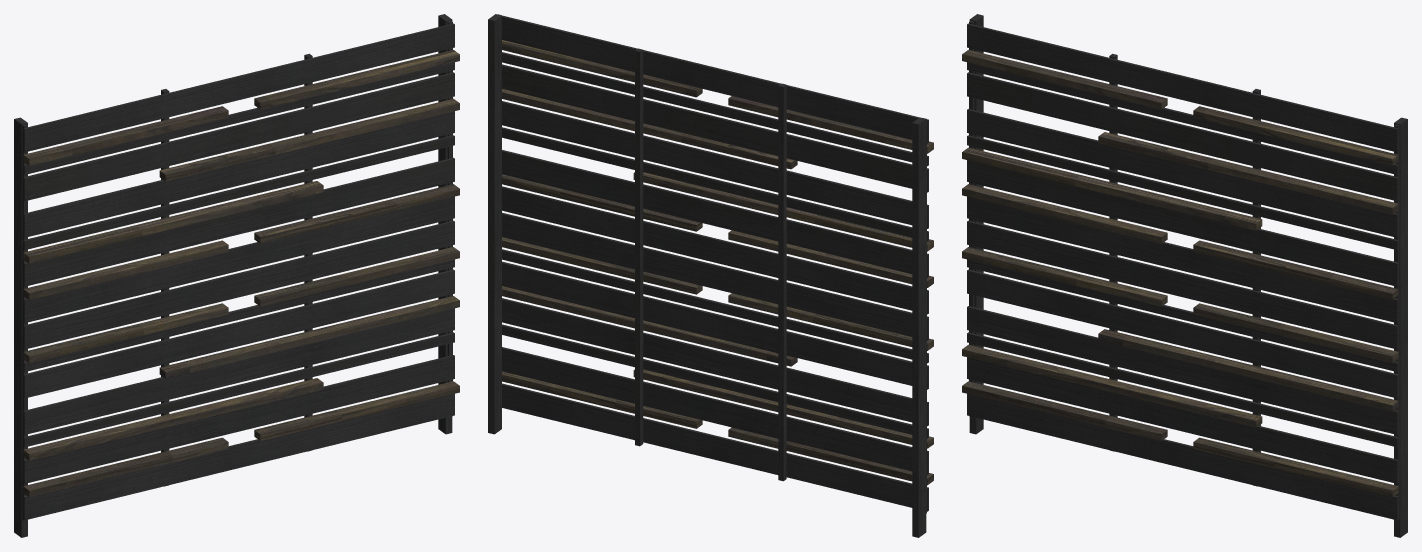
Rendered from EAdesignunitrandom_h1835-w1999_chacoalgrey.fbx.
3 views of the same model, side by side, from view 1: azimuth 30°, elevation 25°; view 2: azimuth 150°, elevation 25°; view 3: azimuth 330°, elevation 25° (orthographic).
Visible parts, largest first — view 1: EAdesignunitrandom_h1835-w1999_chacoalgray; view 2: EAdesignunitrandom_h1835-w1999_chacoalgray; view 3: EAdesignunitrandom_h1835-w1999_chacoalgray.
Part boxes in pixels (x1,y1,x2,y2): EAdesignunitrandom_h1835-w1999_chacoalgray: (14, 14, 459, 537); EAdesignunitrandom_h1835-w1999_chacoalgray: (488, 14, 933, 537); EAdesignunitrandom_h1835-w1999_chacoalgray: (962, 14, 1407, 537).
Bounding box in the file's own units: 200 × 183 × 12.2.
Materials: 2 (2 with a texture image).
